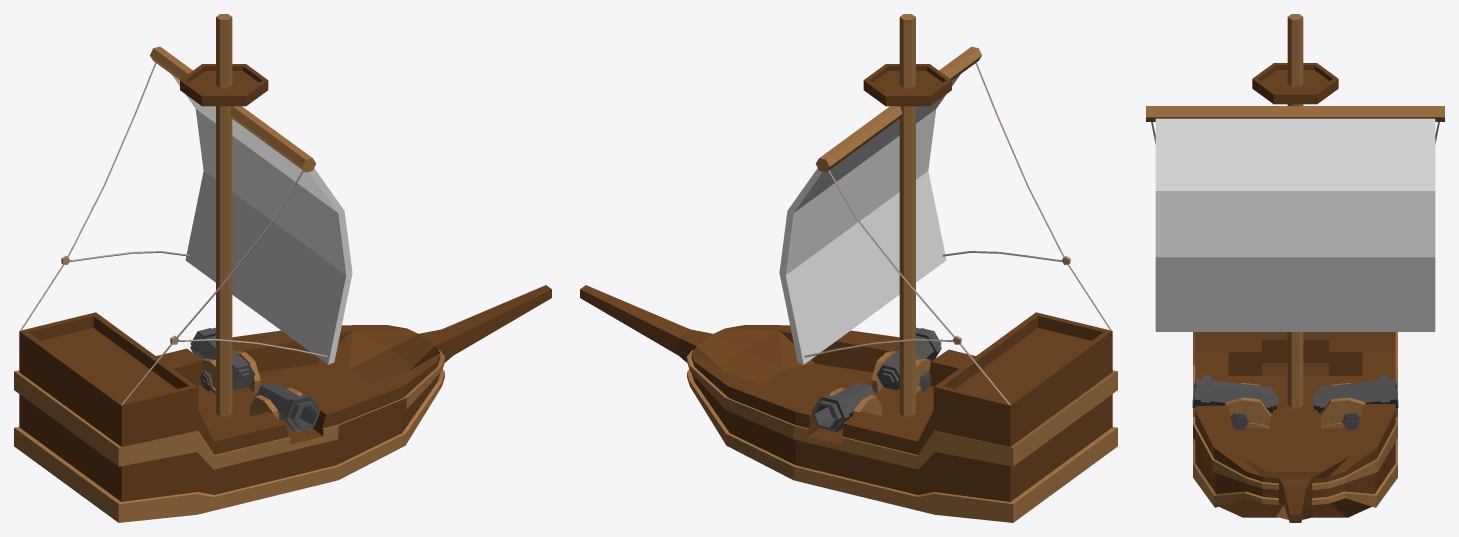
The model's file is ship-PLACEHOLDER-v1.gltf.
3 renders of one model, left to right at view 1: azimuth 30°, elevation 25°; view 2: azimuth 150°, elevation 25°; view 3: azimuth 270°, elevation 25°, orthographic. The views are drawn at different scales.
Parts seen in each view (by area): view 1: sloop-ship; view 2: sloop-ship; view 3: sloop-ship.
Part boxes in pixels (x1,y1,x2,y2): sloop-ship: (14, 14, 551, 522); sloop-ship: (580, 14, 1117, 522); sloop-ship: (1146, 14, 1444, 522).
Bounding box in the file's own units: 5.45 × 4.87 × 2.98.
